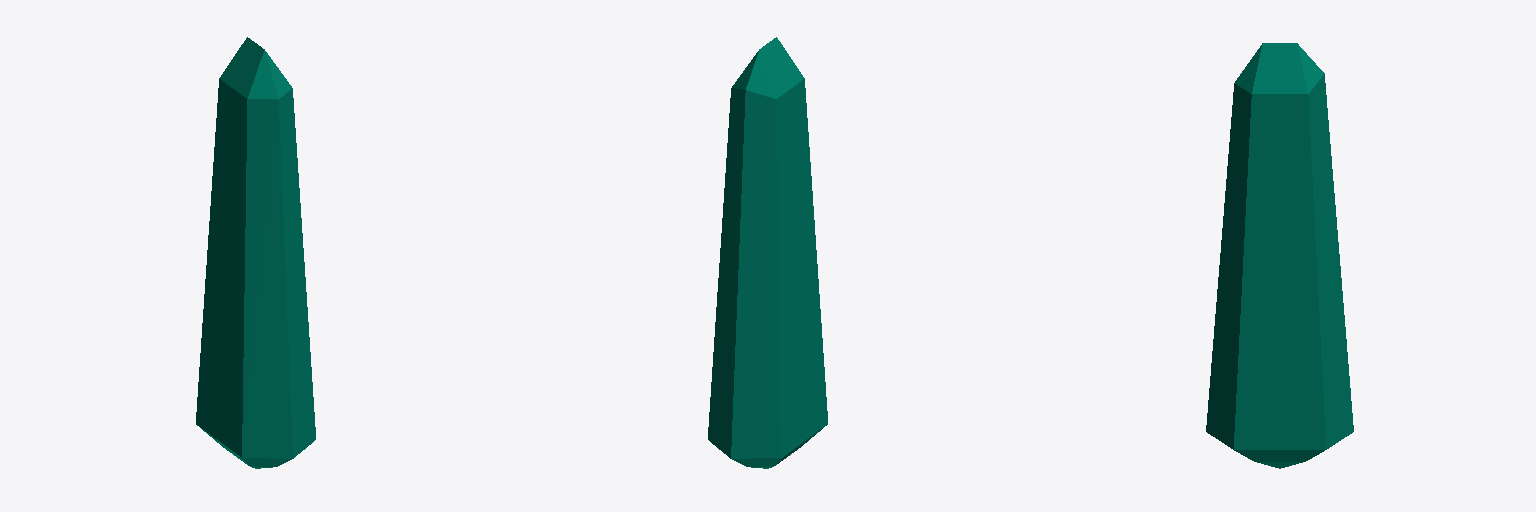
Rendered from Crystal_2.obj.
3 renders of one model, left to right at view 1: azimuth 30°, elevation 25°; view 2: azimuth 150°, elevation 25°; view 3: azimuth 270°, elevation 25°, orthographic.
Visible parts, largest first — view 1: Box053; view 2: Box053; view 3: Box053.
Boxes of the visible parts, <box> form: Box053: <box>196,37,315,468</box>; Box053: <box>708,37,827,468</box>; Box053: <box>1206,43,1353,468</box>.
Size of the model in its own units: 0.2872 by 1.57 by 0.4953.